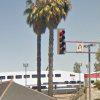Palm tree: (21, 0, 58, 90)
